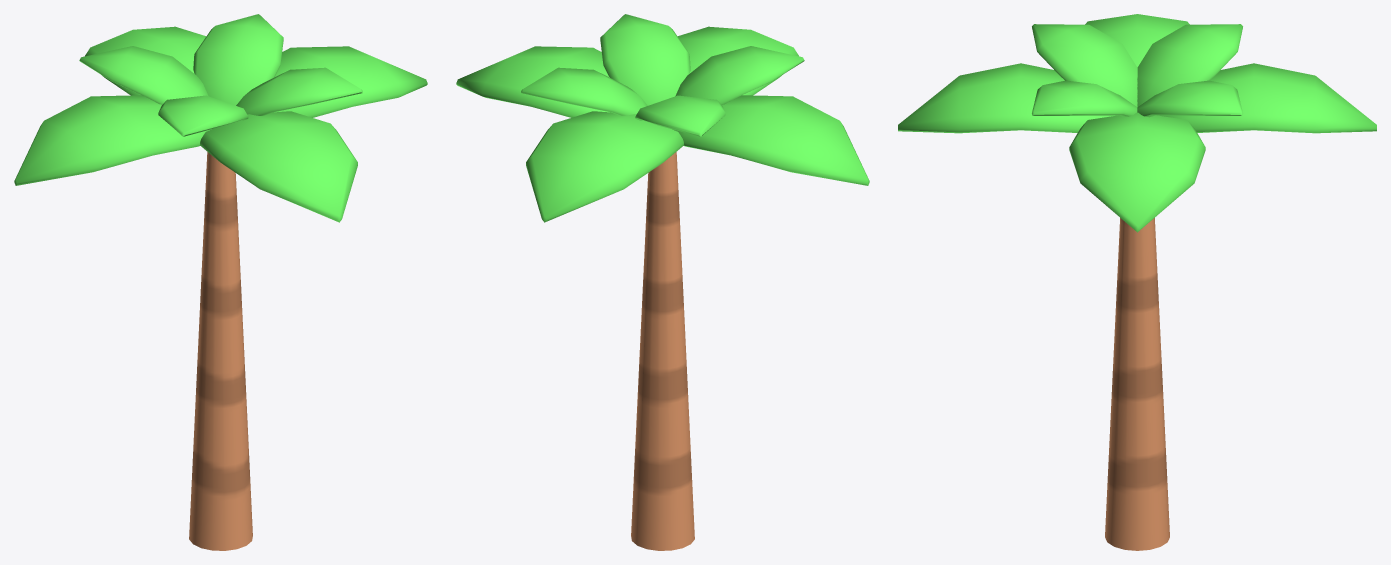
File: Palm002.fbx
3 views of the same model, side by side, from view 1: azimuth 30°, elevation 25°; view 2: azimuth 150°, elevation 25°; view 3: azimuth 270°, elevation 25° (orthographic).
Visible parts, largest first — view 1: Palm002; view 2: Palm002; view 3: Palm002.
Boxes of the visible parts, x1,y1,x2,y2 form: Palm002: [14, 14, 427, 550]; Palm002: [456, 14, 869, 550]; Palm002: [898, 14, 1376, 550].
Bounding box in the file's own units: 394 × 432 × 394.
